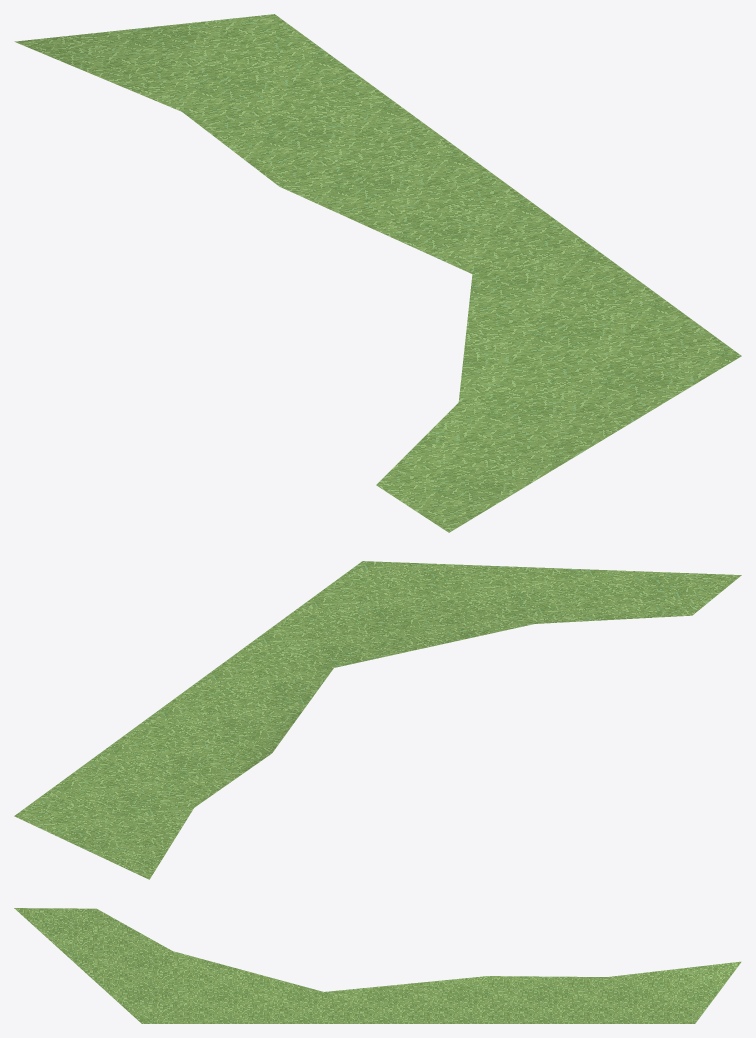
The model's file is kd_stage_135d18_0_6.glb.
The picture shows the model from 3 angles, top to bottom: view 1: azimuth 30°, elevation 25°; view 2: azimuth 150°, elevation 25°; view 3: azimuth 270°, elevation 25°; orthographic projection. The views are drawn at different scales.
Parts seen in each view (by area): view 1: kd_stage_135d18_0_6; view 2: kd_stage_135d18_0_6; view 3: kd_stage_135d18_0_6.
Part boxes in pixels (x1,y1,x2,y2): kd_stage_135d18_0_6: (14,14,741,532); kd_stage_135d18_0_6: (14,561,741,879); kd_stage_135d18_0_6: (14,908,741,1023).
Size of the model in its own units: 23.96 by 0.1426 by 63.11.
Materials: 1 (1 with a texture image).
